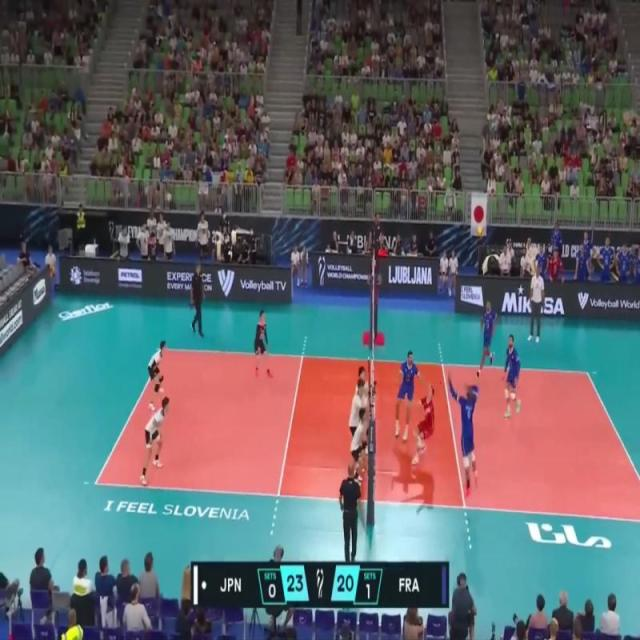volleyball: (477, 224, 485, 237)
